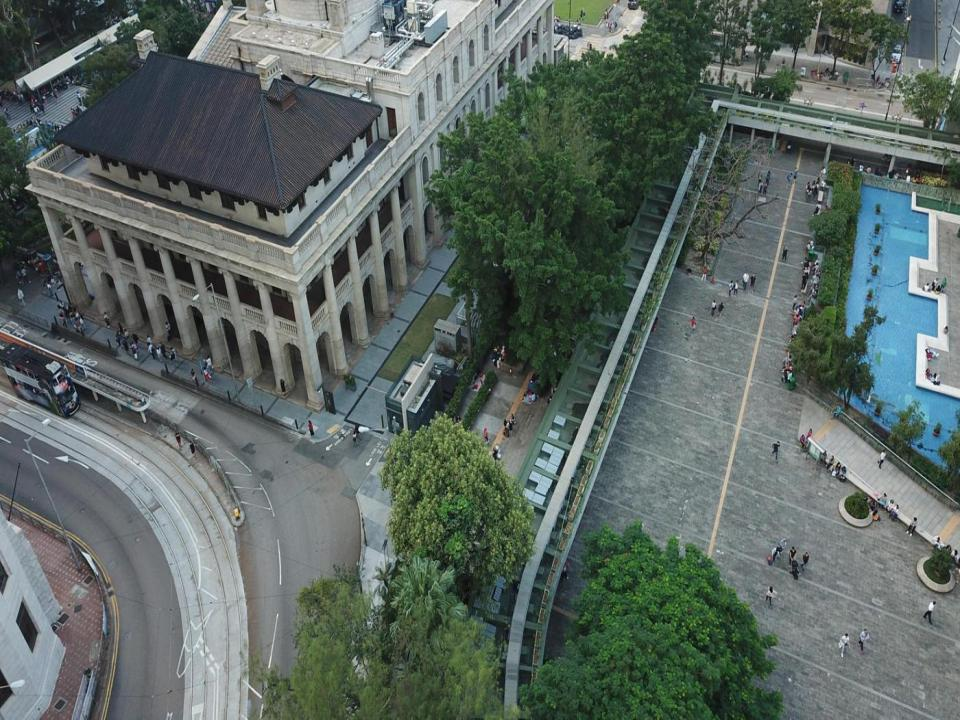bus: (2, 341, 79, 418)
car: (888, 43, 901, 64), (892, 1, 907, 13)
